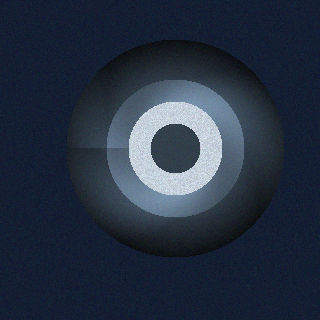cyclone_body: (103, 76, 247, 220)
cyclone_eye: (148, 120, 203, 176)
